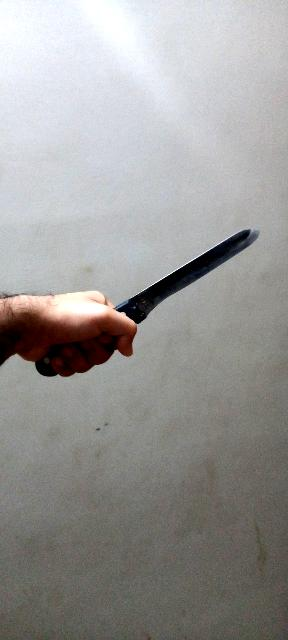long knife: (28, 222, 266, 376)
